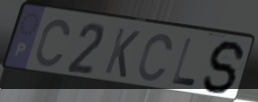2: (65, 21, 107, 78)
C: (33, 18, 72, 70), (136, 32, 175, 84)
K: (101, 26, 142, 81)
L: (170, 37, 198, 89)
S: (201, 40, 248, 96)
